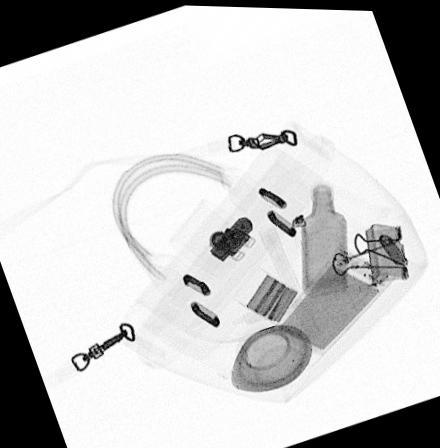Powerbank: (270, 240, 395, 353)
